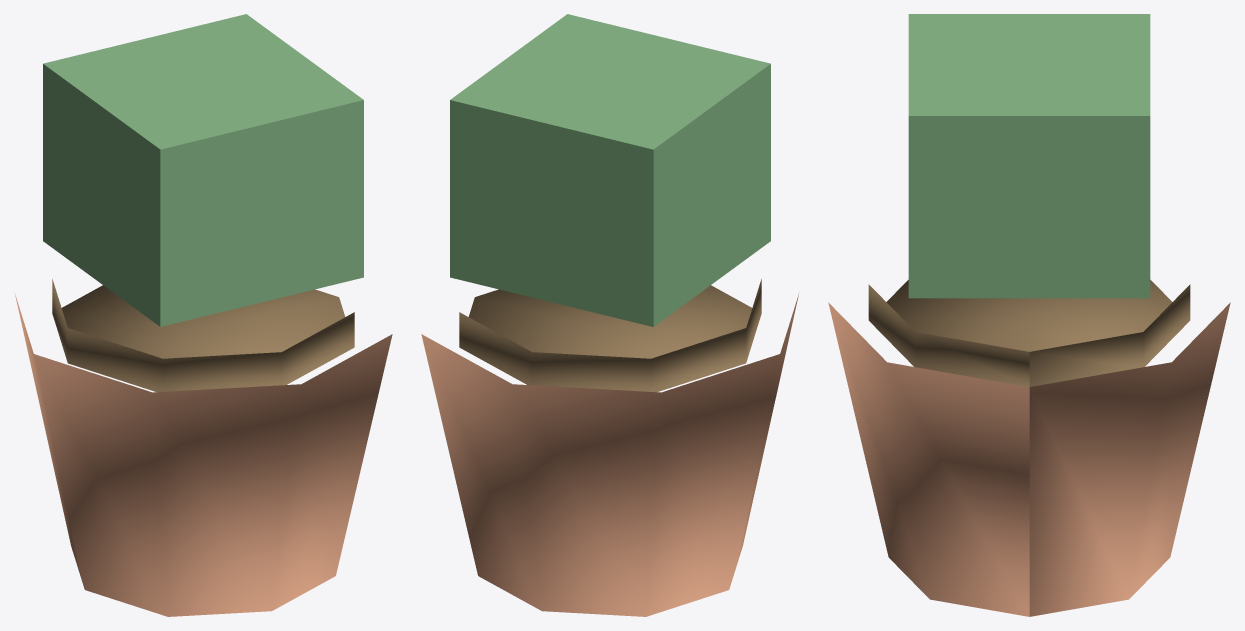
The model's file is flower_pot.glb.
3 renders of one model, left to right at view 1: azimuth 30°, elevation 25°; view 2: azimuth 150°, elevation 25°; view 3: azimuth 270°, elevation 25°, orthographic. The views are drawn at different scales.
Parts seen in each view (by area): view 1: flowers, pot, soil; view 2: flowers, pot, soil; view 3: pot, flowers, soil.
Boxes of the visible parts, box(x1,y1,x2,y2) form: flowers: box(43, 14, 363, 326); pot: box(15, 294, 392, 616); soil: box(52, 279, 354, 392); flowers: box(450, 14, 770, 326); pot: box(421, 294, 798, 616); soil: box(459, 279, 761, 392); pot: box(828, 302, 1230, 616); flowers: box(908, 14, 1150, 298); soil: box(868, 280, 1190, 386).
Size of the model in its own units: 0.2 by 0.27 by 0.2.
